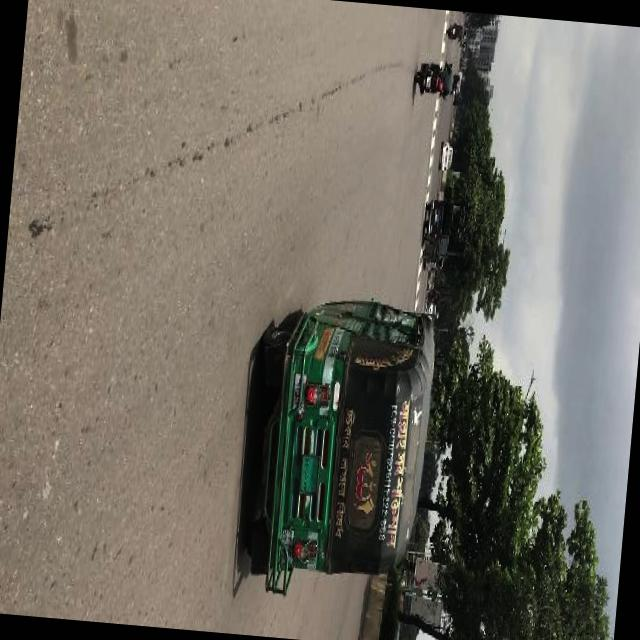bus: (458, 56, 468, 67)
car: (438, 138, 453, 171), (426, 302, 436, 318), (452, 90, 460, 104)
motorcycle: (238, 292, 438, 603), (411, 57, 454, 101), (444, 20, 468, 42), (425, 288, 438, 303)
truck: (421, 198, 453, 264)
